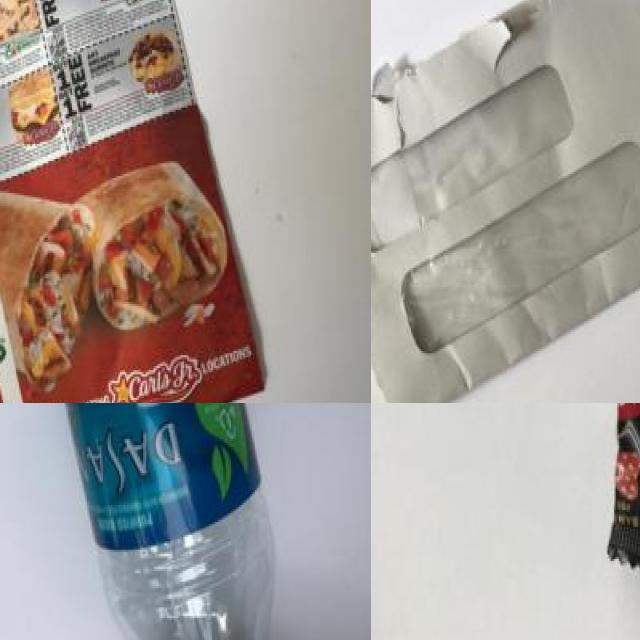paper: (0, 0, 274, 403), (371, 0, 640, 403)
plastic: (23, 403, 289, 640)
trash: (442, 403, 640, 589)
